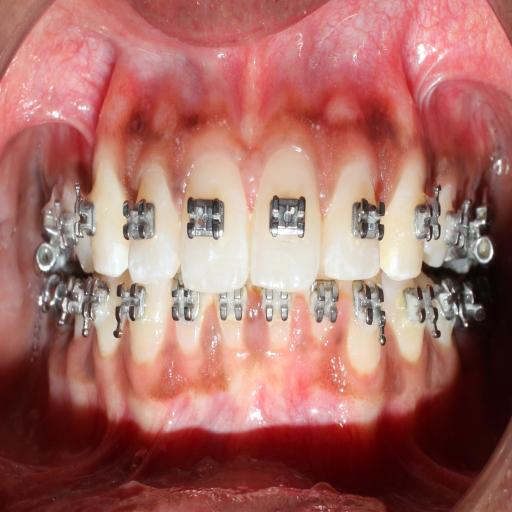correct_brace: (265, 190, 312, 242), (183, 192, 228, 246)
